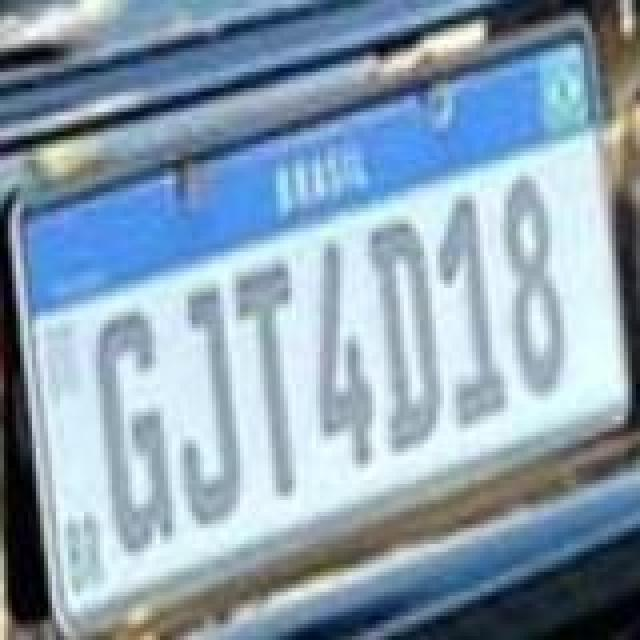1: (434, 190, 510, 434)
4: (312, 238, 376, 474)
8: (500, 168, 572, 400)
D: (370, 216, 446, 456)
G: (94, 306, 178, 558)
J: (172, 284, 244, 532)
T: (230, 256, 298, 504)
